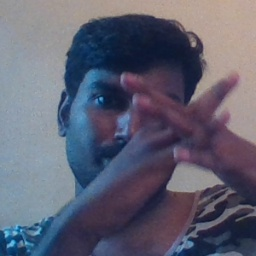W: (111, 61, 256, 185)
